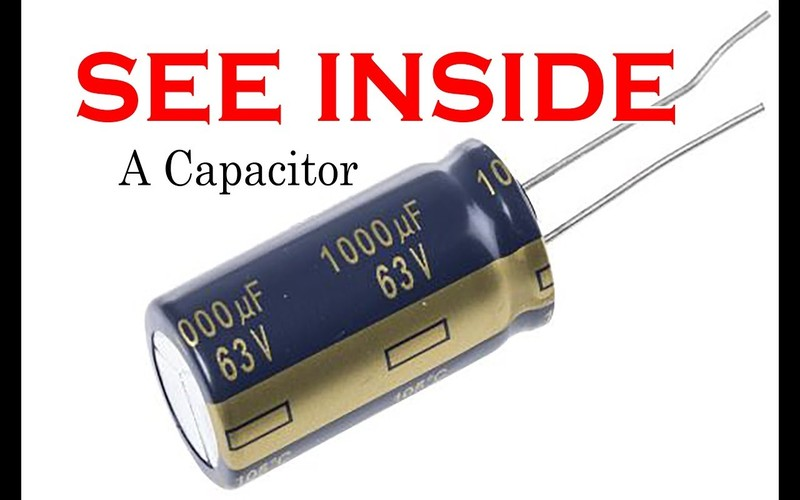Capacitor: (125, 0, 800, 499), (127, 479, 128, 482)
